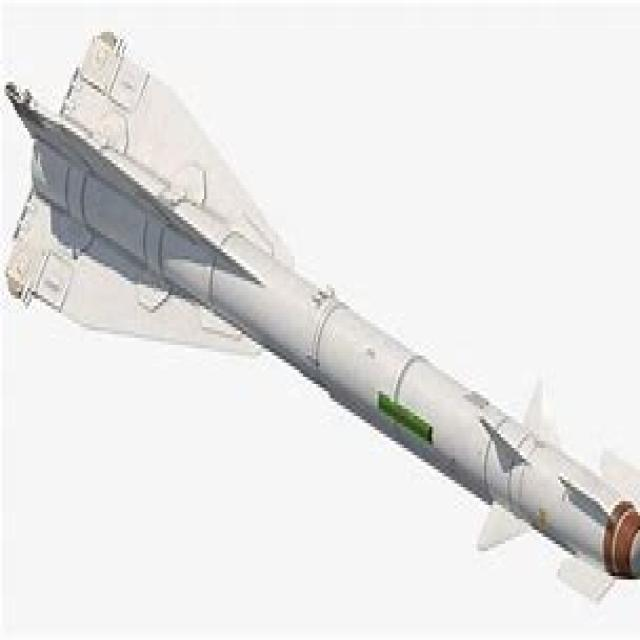missile: (6, 27, 640, 595)
